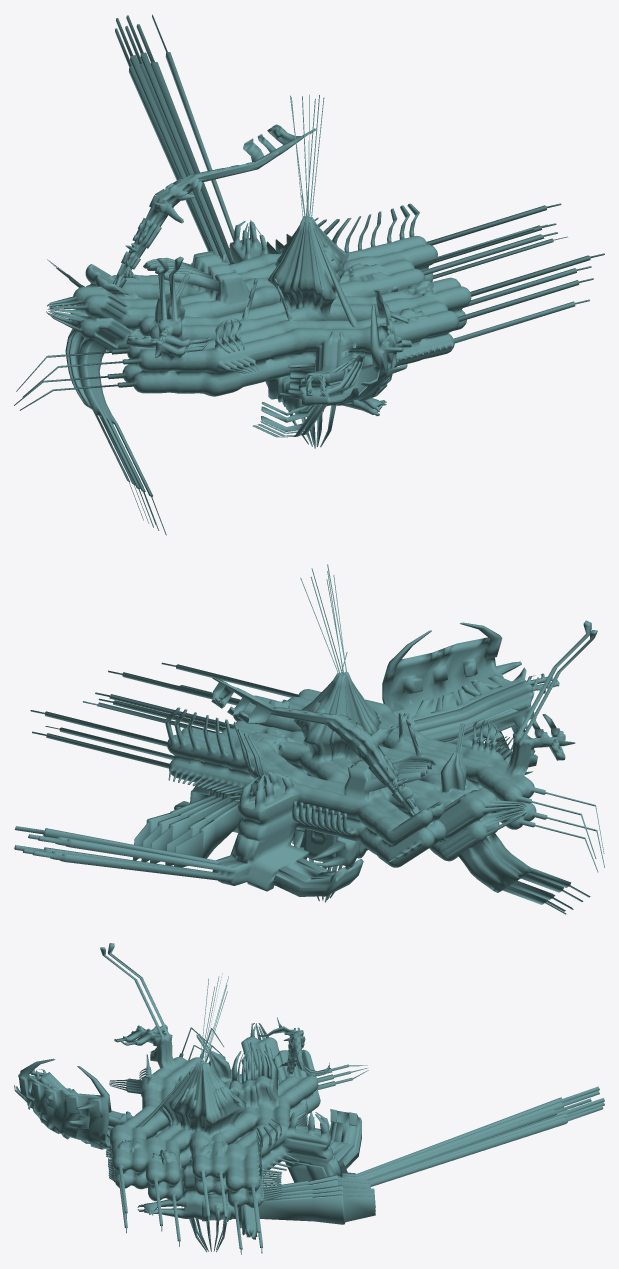
The model's file is SpaceDock_shuffie_2.glb.
3 renders of one model, top to bottom at view 1: azimuth 30°, elevation 25°; view 2: azimuth 150°, elevation 25°; view 3: azimuth 270°, elevation 25°, orthographic. The views are drawn at different scales.
Visible parts, largest first — view 1: Mball.192_0; view 2: Mball.192_0; view 3: Mball.192_0.
Boxes of the visible parts, x1=… form: Mball.192_0: x1=14, y1=14, x2=604, y2=535; Mball.192_0: x1=14, y1=564, x2=604, y2=914; Mball.192_0: x1=14, y1=943, x2=604, y2=1254.
Bounding box in the file's own units: 69.98 × 40.94 × 80.32.
